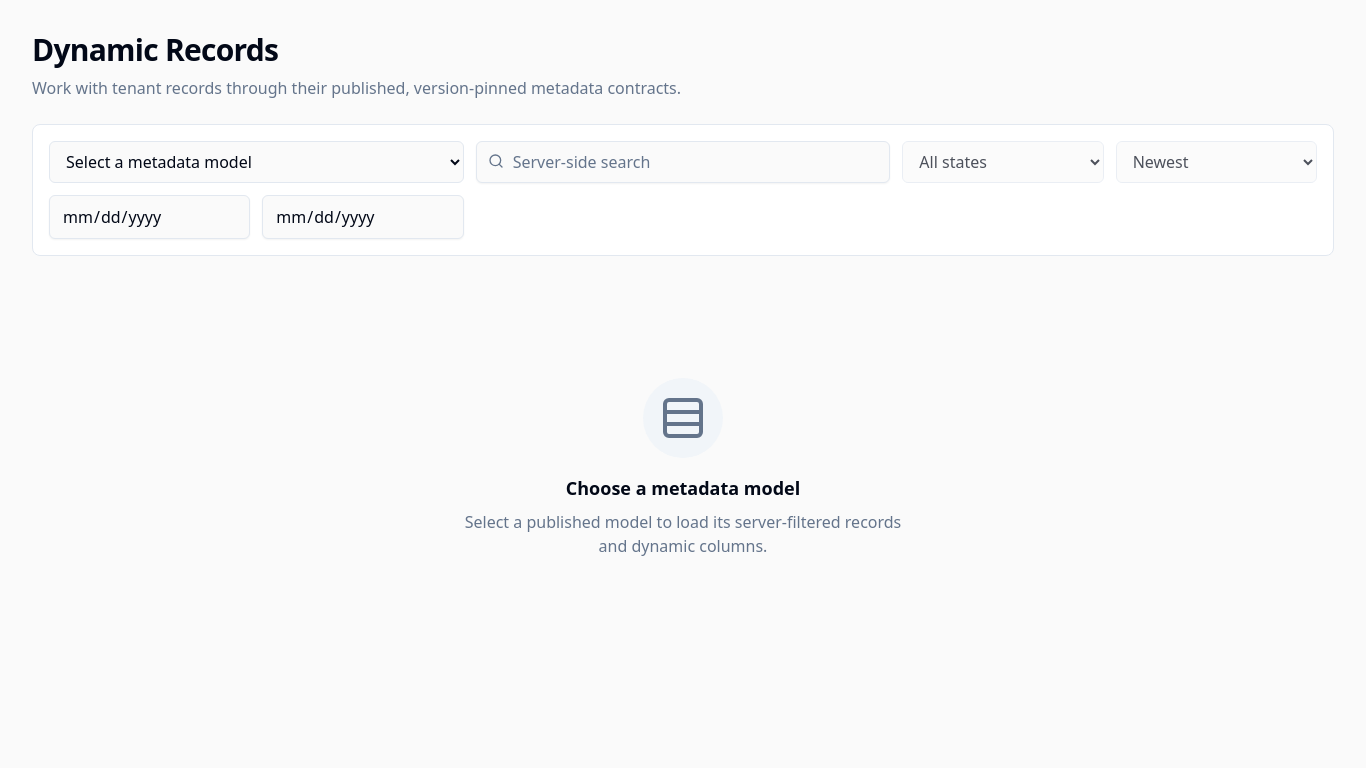
Scenario: DynamicResourceListPage › distinguishes no schema from filtered empty records
expect the heading "Choose a metadata model" is shown: met, box [566,474,800,502]
Select "Assets" in the dropdown named "Metadata model" at (256, 162), box [49,141,464,183]
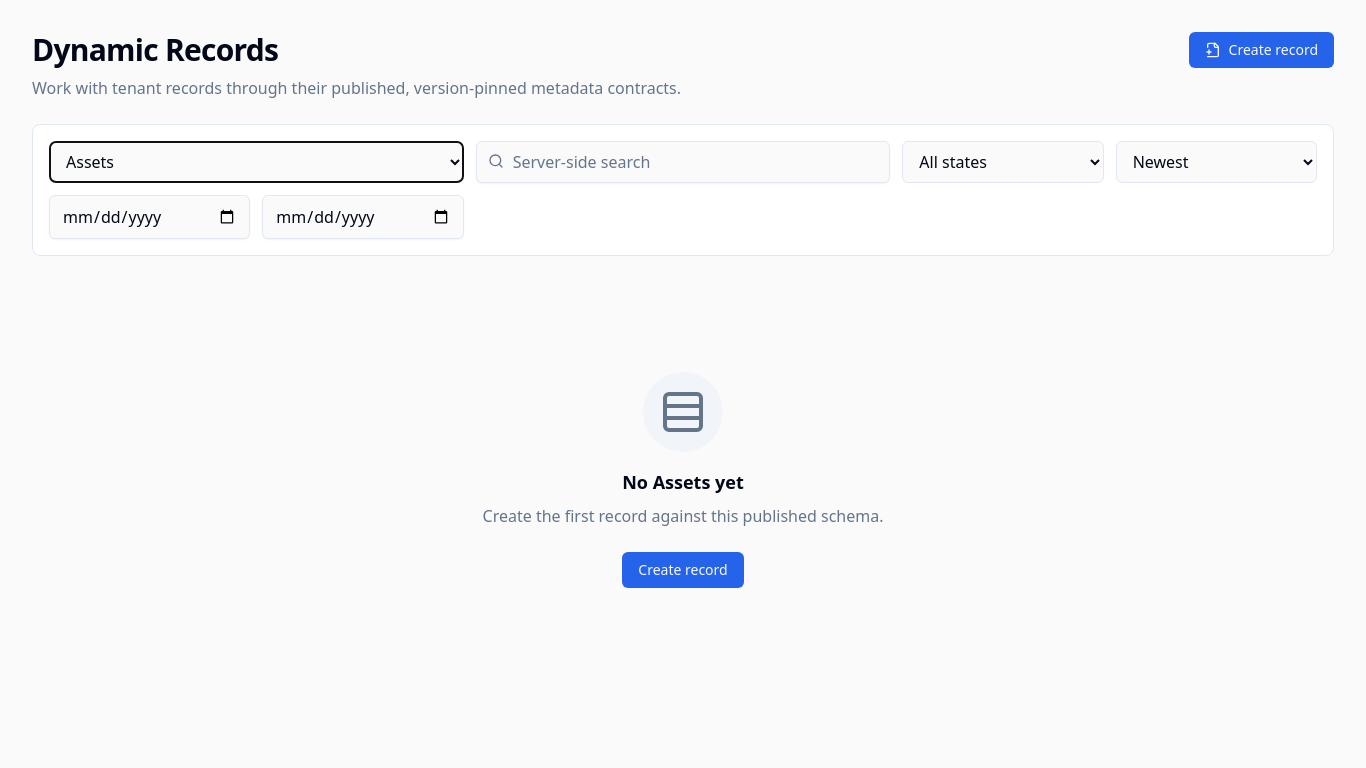
Type "missing" into the field named "Search records" at (683, 162), box [476,141,890,183]
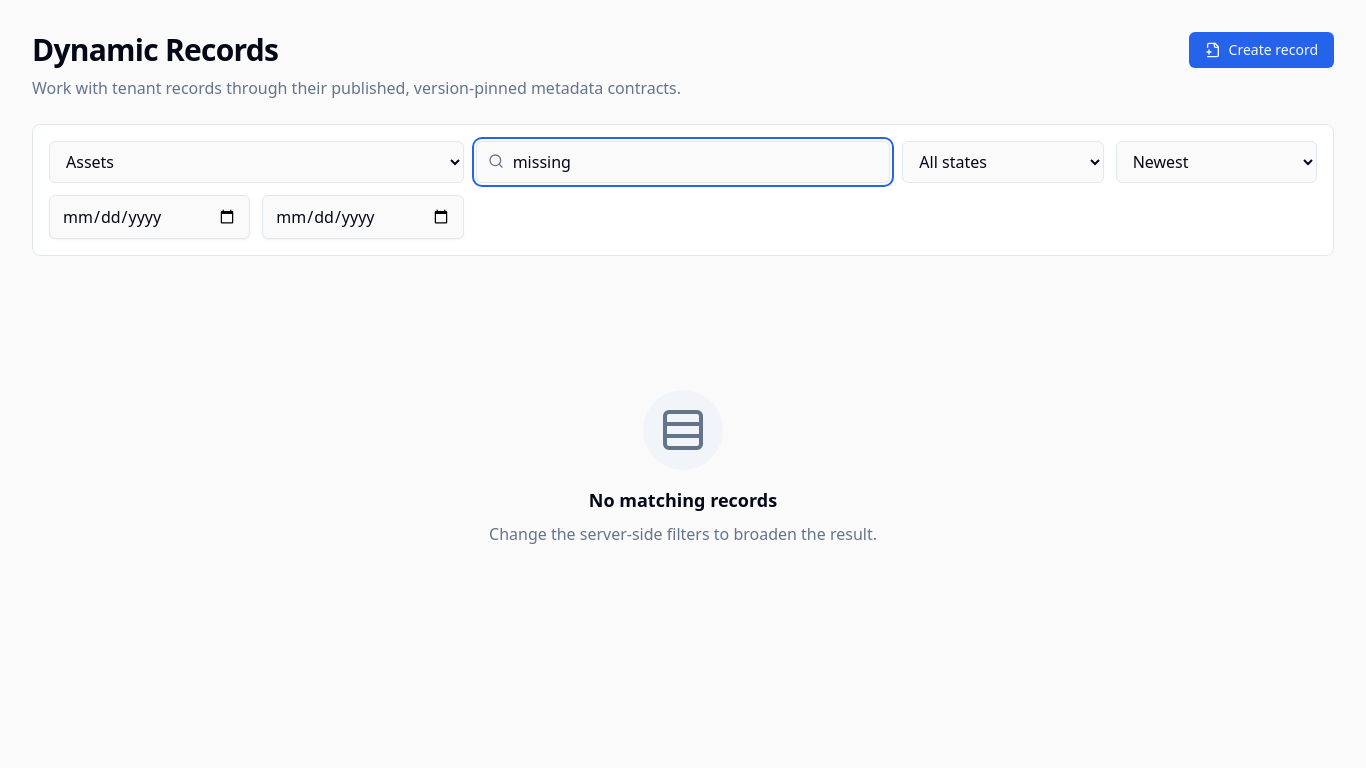
expect the heading "No matching records" is shown: met, box [589,486,777,514]
